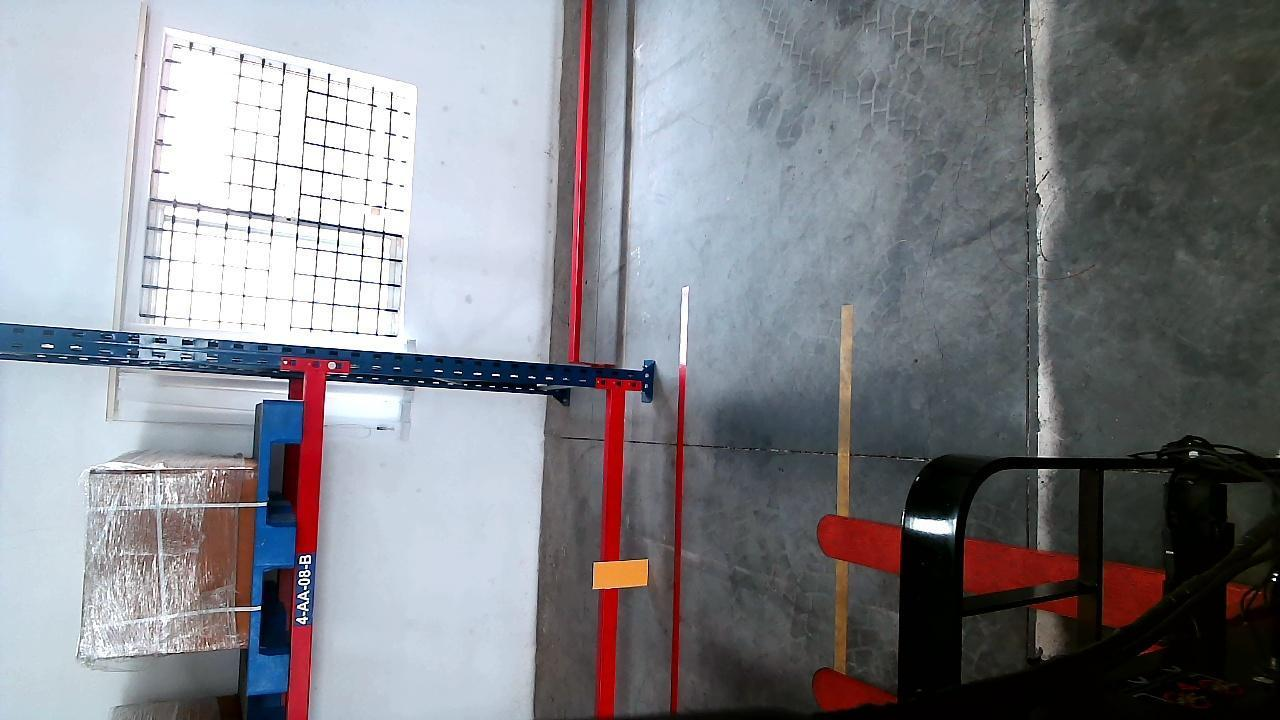h_rack: (292, 372, 329, 713), (601, 378, 629, 716)
orange_strip: (599, 557, 649, 590)
red_line: (666, 300, 693, 719)
small_pallet: (246, 417, 299, 712)
yellow_line: (834, 303, 853, 674)
